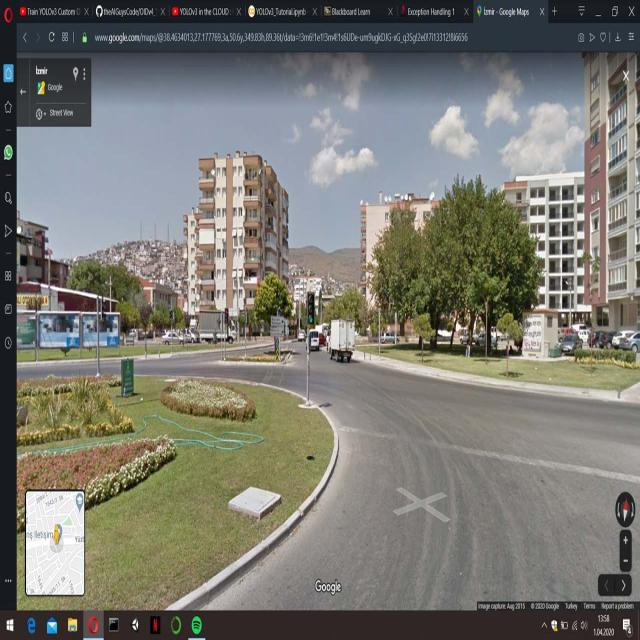yesil: (307, 292, 314, 322)
